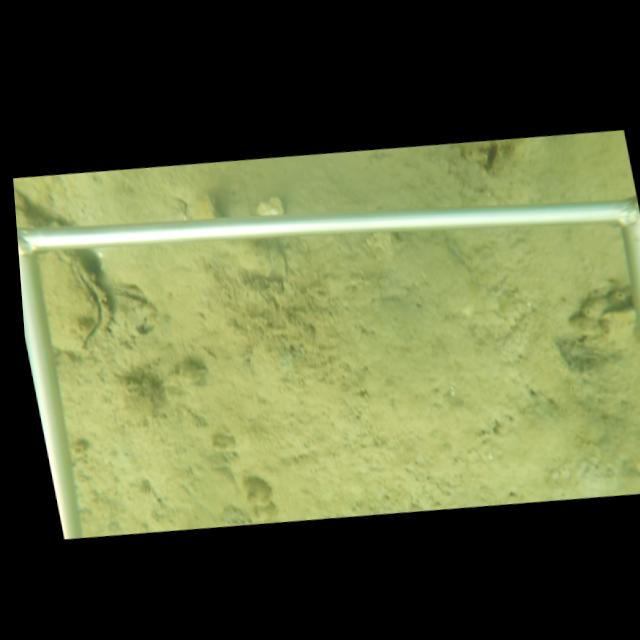Oyster-Closed: (38, 252, 114, 356)
Oyster-Open: (478, 140, 502, 171)
